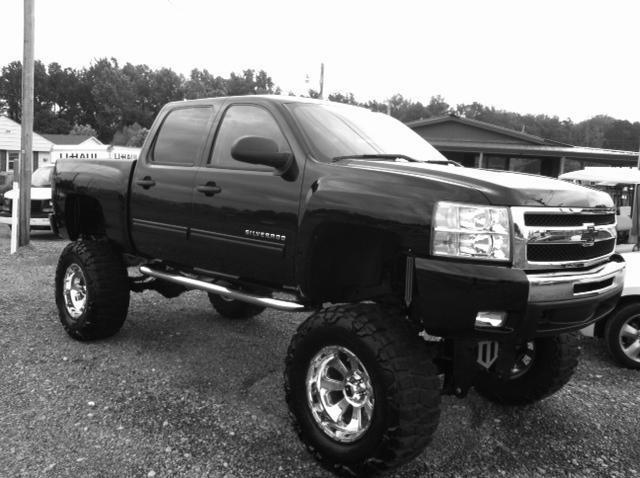car: (51, 95, 625, 472)
